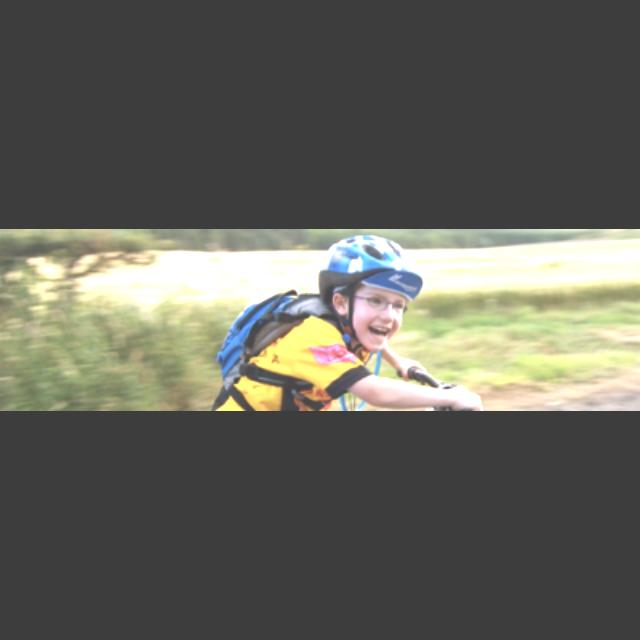With Helmet: (315, 234, 425, 354)
